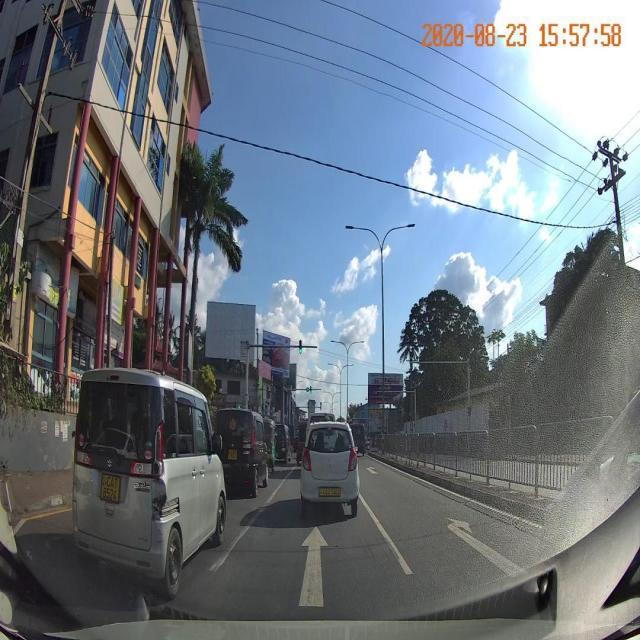Liniya 1: (383, 461, 543, 535), (202, 472, 294, 578), (359, 491, 418, 578), (12, 507, 73, 537)
Strelka vpered: (297, 524, 328, 608)
Strelka vpravo: (444, 517, 526, 576)
